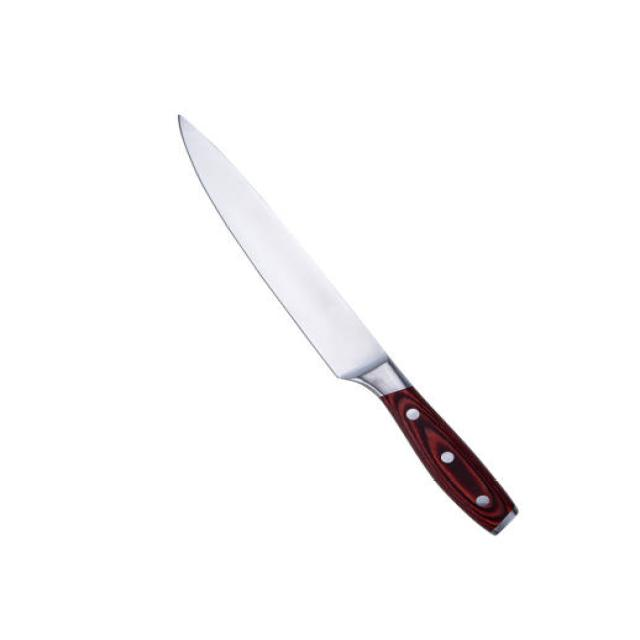knife: (171, 101, 541, 539)
